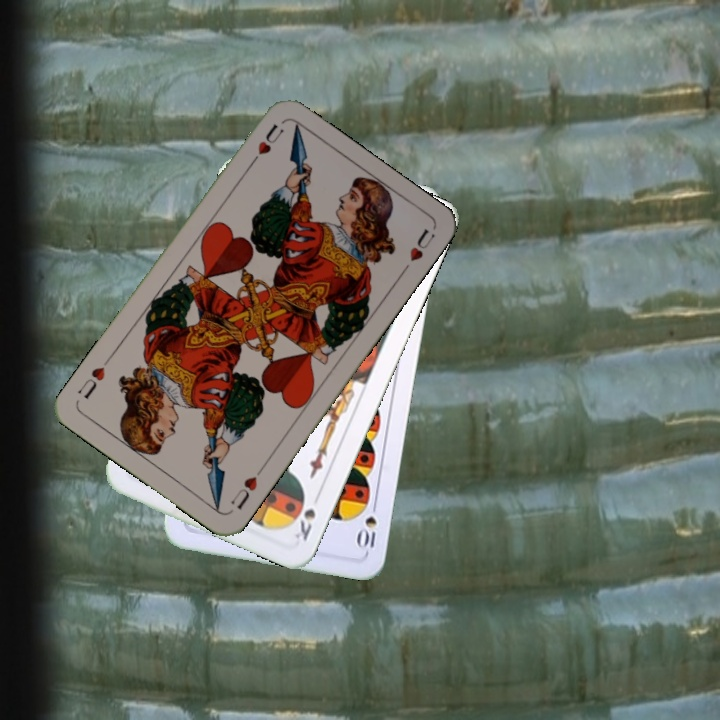HU: (245, 120, 287, 170), (226, 463, 267, 513)
S10: (355, 496, 380, 551)
SK: (290, 504, 318, 544)
